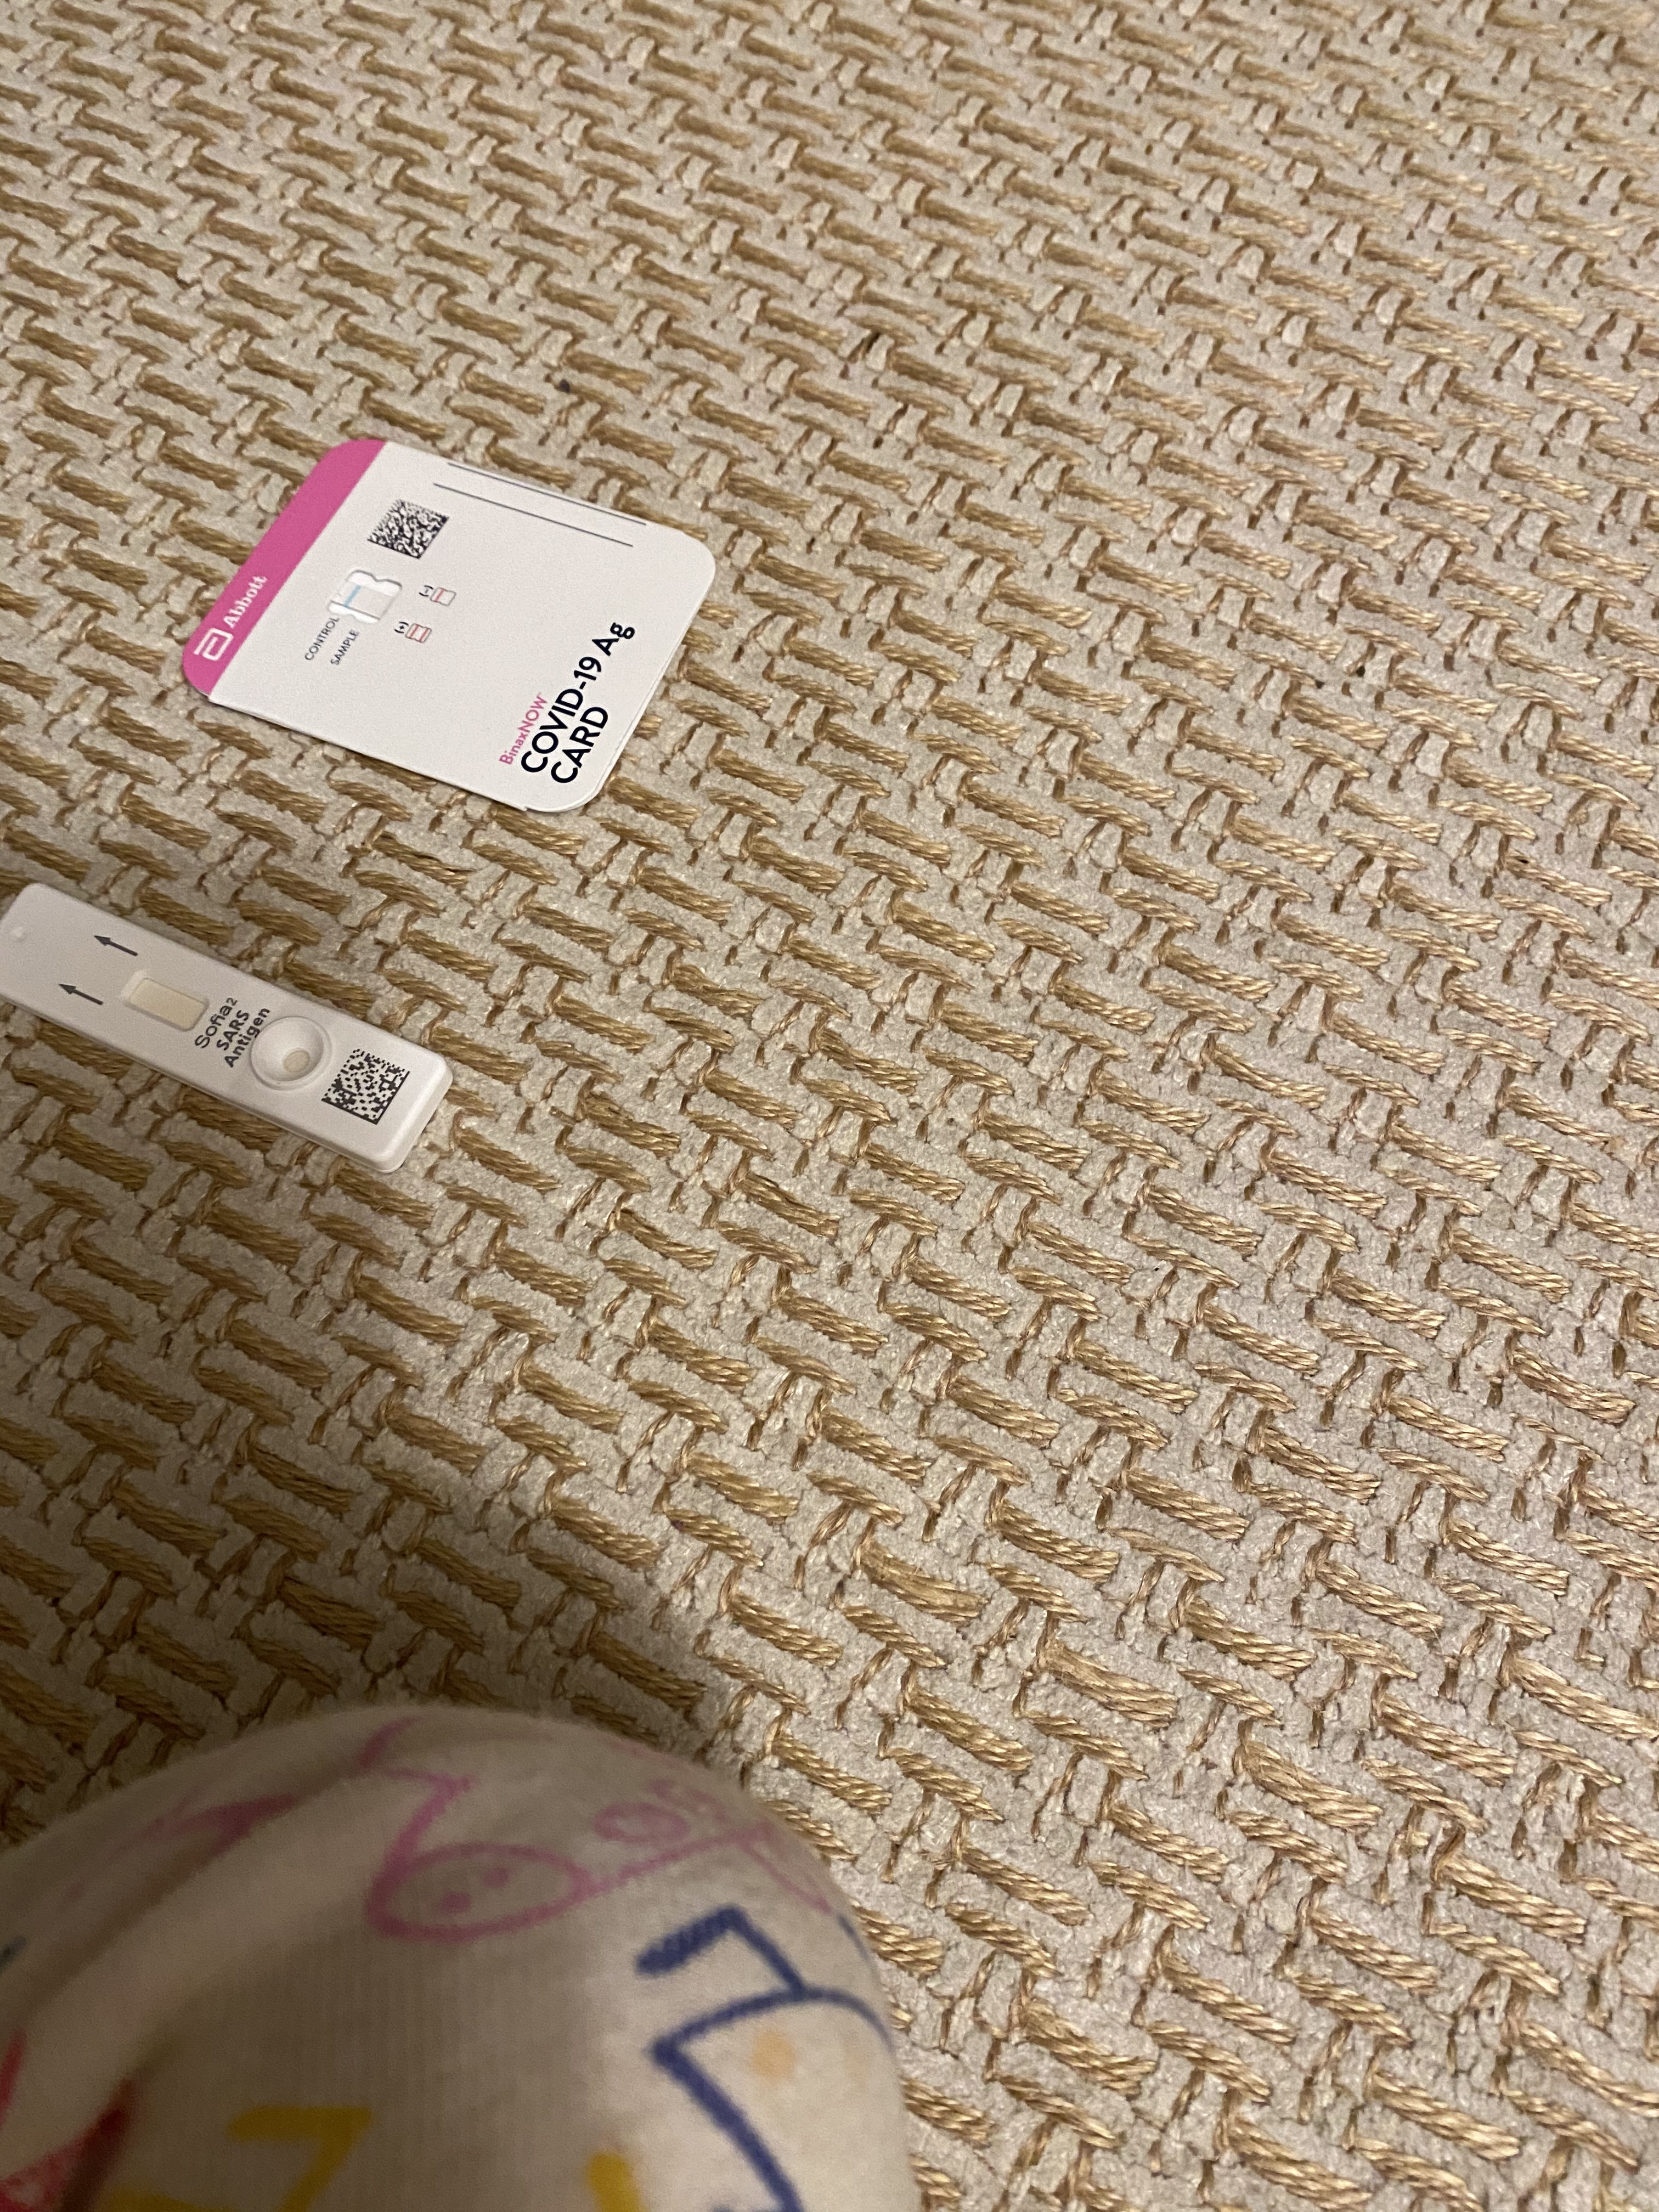binax: (181, 432, 725, 826)
quidel: (0, 881, 460, 1167)
